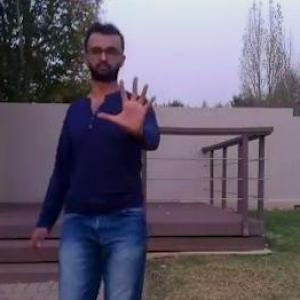follow_hand: (96, 68, 159, 134)
